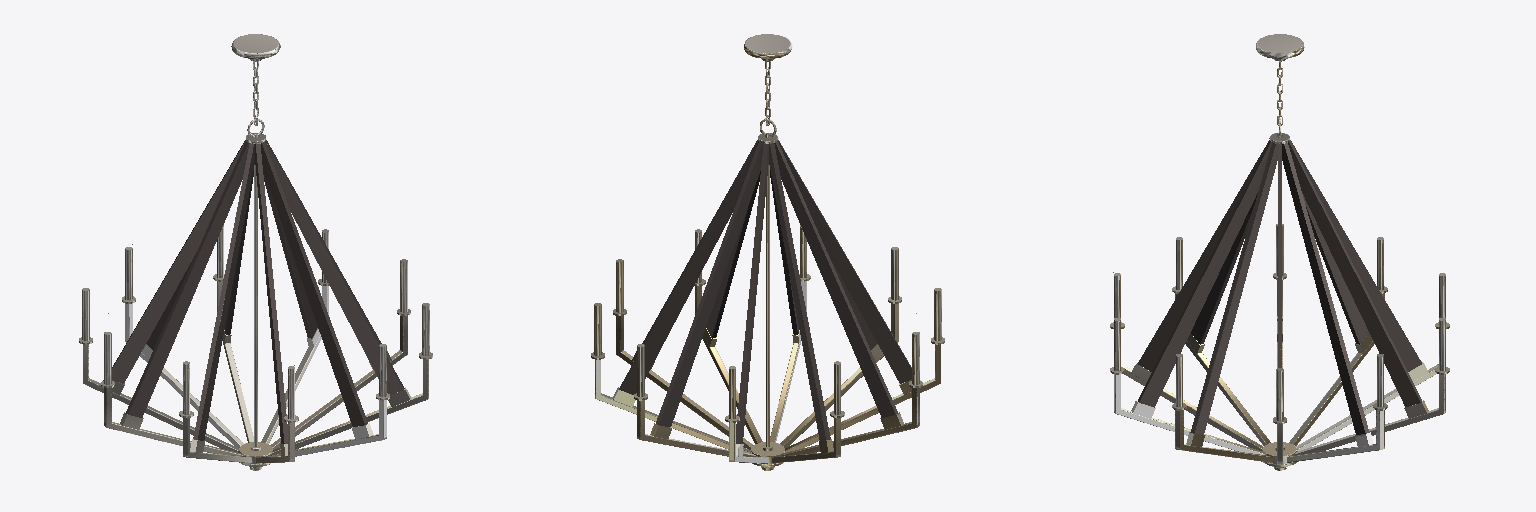
3 views of the same model, side by side, from view 1: azimuth 30°, elevation 25°; view 2: azimuth 150°, elevation 25°; view 3: azimuth 270°, elevation 25° (orthographic).
Visible parts, largest first — view 1: solid_001, solid_003; view 2: solid_001, solid_003; view 3: solid_001, solid_003.
Part boxes in pixels (bbox=[...]): solid_001: bbox=[112, 140, 404, 443]; solid_003: bbox=[79, 34, 432, 470]; solid_001: bbox=[619, 140, 911, 443]; solid_003: bbox=[591, 34, 944, 470]; solid_001: bbox=[1138, 140, 1421, 434]; solid_003: bbox=[1110, 34, 1449, 470].
Size of the model in its own units: 0.5817 by 0.7643 by 0.5545.
1 materials, 1 textured.